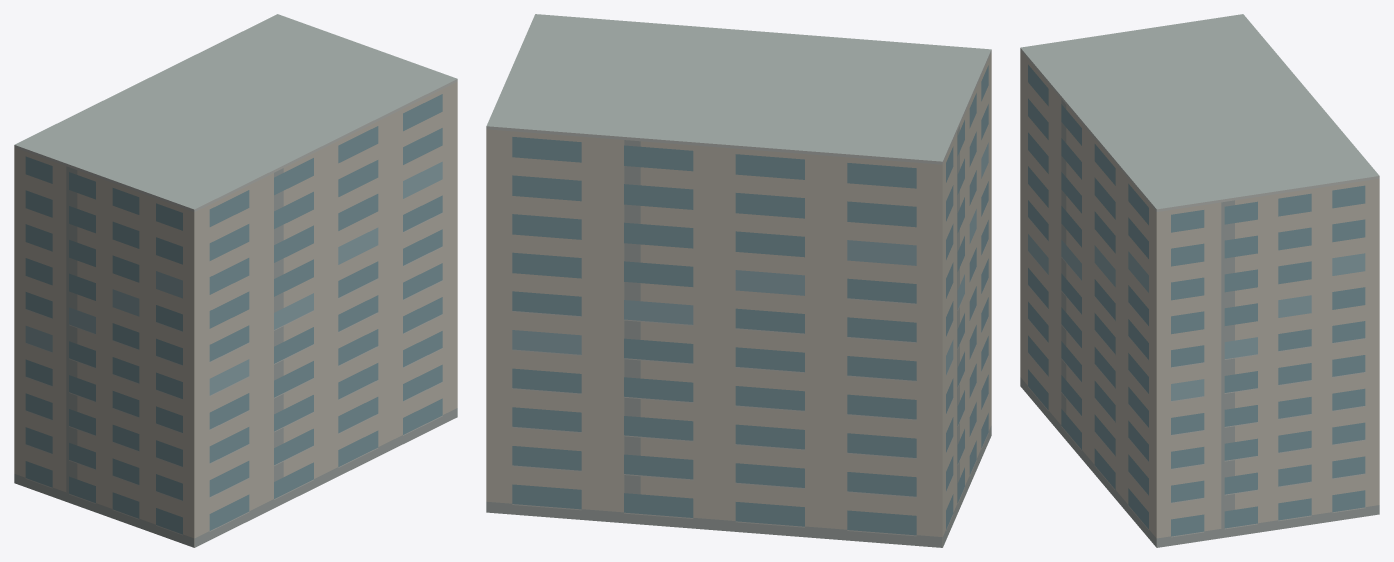
The model's file is residential-253f6dee-2800-4849-9c50-2e329b02b787.glb.
3 renders of one model, left to right at view 1: azimuth 30°, elevation 25°; view 2: azimuth 150°, elevation 25°; view 3: azimuth 270°, elevation 25°, orthographic. The views are drawn at different scales.
Visible parts, largest first — view 1: residential-253f6dee-2800-4849-9c50-2e329b02b787.tmp; view 2: residential-253f6dee-2800-4849-9c50-2e329b02b787.tmp; view 3: residential-253f6dee-2800-4849-9c50-2e329b02b787.tmp.
Boxes of the visible parts, x1=… form: residential-253f6dee-2800-4849-9c50-2e329b02b787.tmp: x1=14, y1=14, x2=457, y2=547; residential-253f6dee-2800-4849-9c50-2e329b02b787.tmp: x1=486, y1=14, x2=991, y2=547; residential-253f6dee-2800-4849-9c50-2e329b02b787.tmp: x1=1020, y1=14, x2=1379, y2=547.
Bounding box in the file's own units: 37.76 × 30.5 × 29.36.
